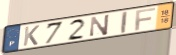2: (66, 18, 88, 41)
7: (45, 21, 66, 45)
F: (134, 7, 157, 31)
I: (121, 10, 129, 34)
K: (22, 24, 41, 47)
N: (89, 13, 111, 38)
